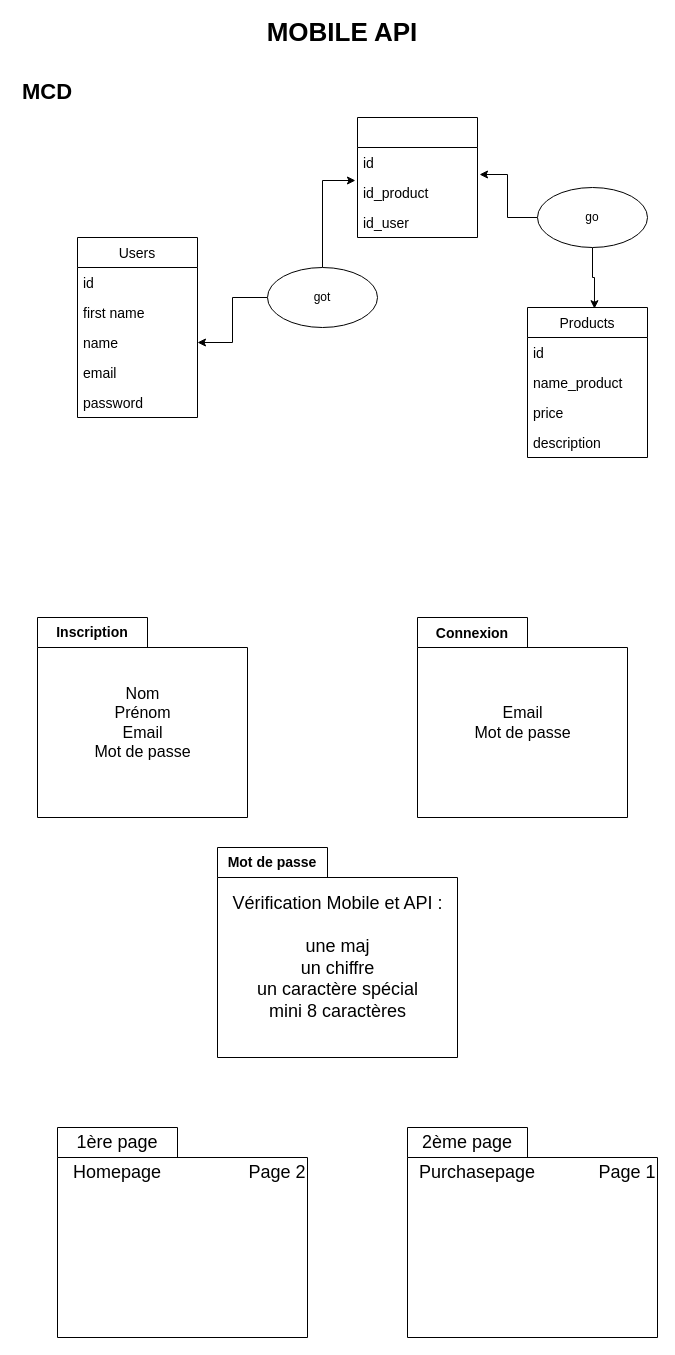
This 675x1355 diagram has some shape labels left out. The shapes that lost their labels are listed below. From the top down, each one's box as (x1, y1, x2, y2) in pixels, then its label:
(356, 116, 478, 238): List
(56, 1126, 308, 1338): Liste de course utilisateur Produit 1 Delete Produit 2 Delete Produit 3 Delete
(406, 1126, 658, 1338): Produit 1 Buy Produit 2 Buy Produit 3 Buy ...
